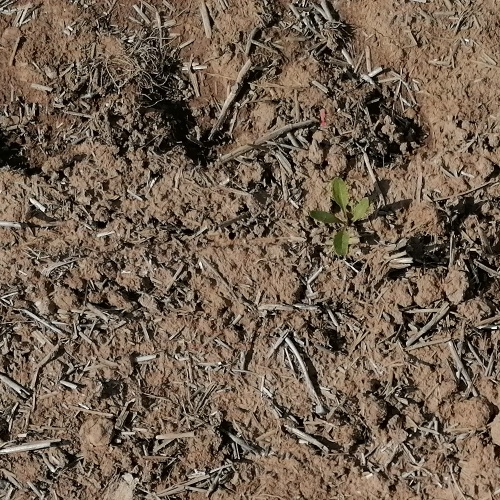beet: (311, 177, 369, 257)
